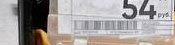1d: (74, 19, 138, 32)
